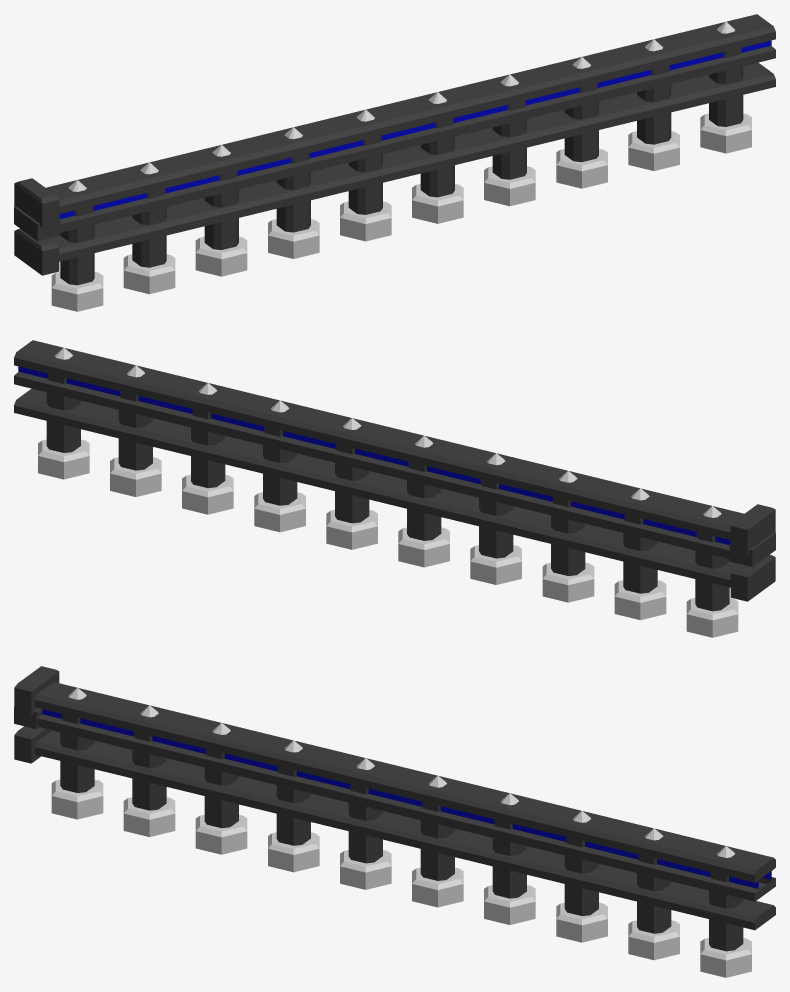
Rendered from guard_rail.fbx.
3 views of the same model, one above another, from view 1: azimuth 30°, elevation 25°; view 2: azimuth 150°, elevation 25°; view 3: azimuth 330°, elevation 25° (orthographic).
Parts seen in each view (by area): view 1: Guard Rail; view 2: Guard Rail; view 3: Guard Rail.
Boxes of the visible parts, x1,y1,x2,y2 form: Guard Rail: (14,14,775,311); Guard Rail: (14,340,775,637); Guard Rail: (14,666,775,977).
Bounding box in the file's own units: 2034 × 317 × 134.
